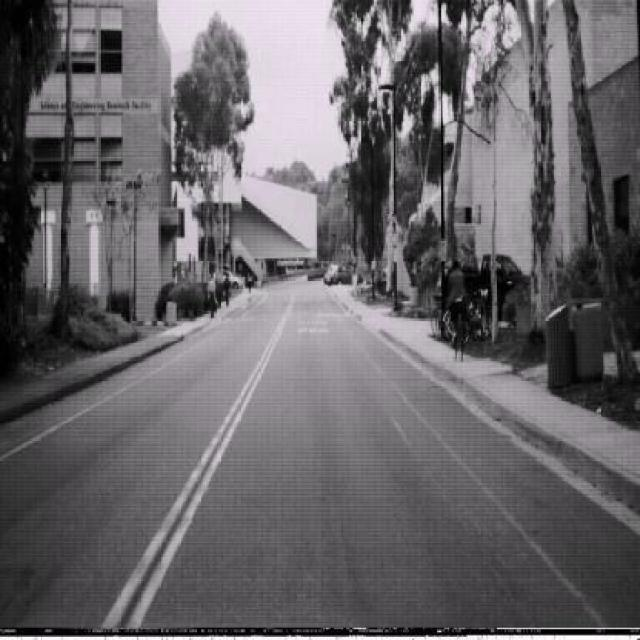pedestrianCrossing: (388, 216, 403, 247)
